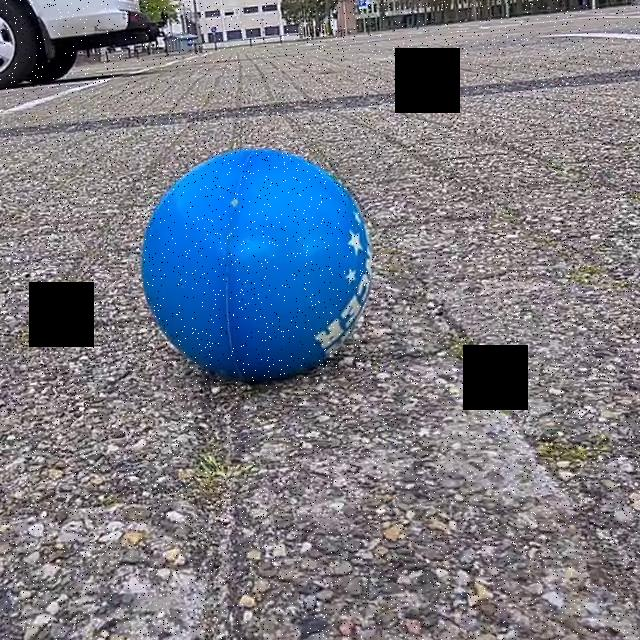ball: (139, 143, 327, 386)
